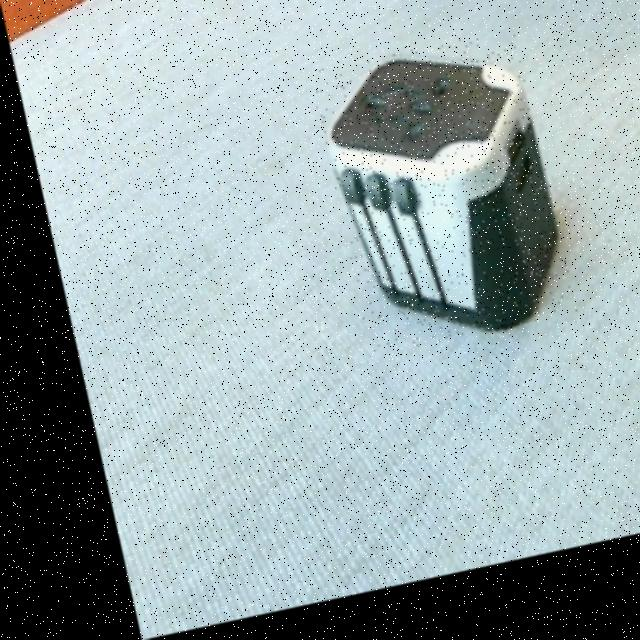adapter: (302, 50, 558, 369)
